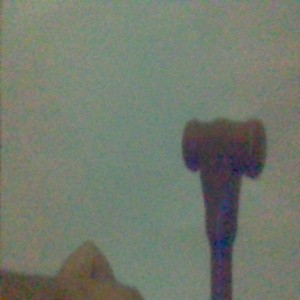palu: (180, 115, 268, 300)
